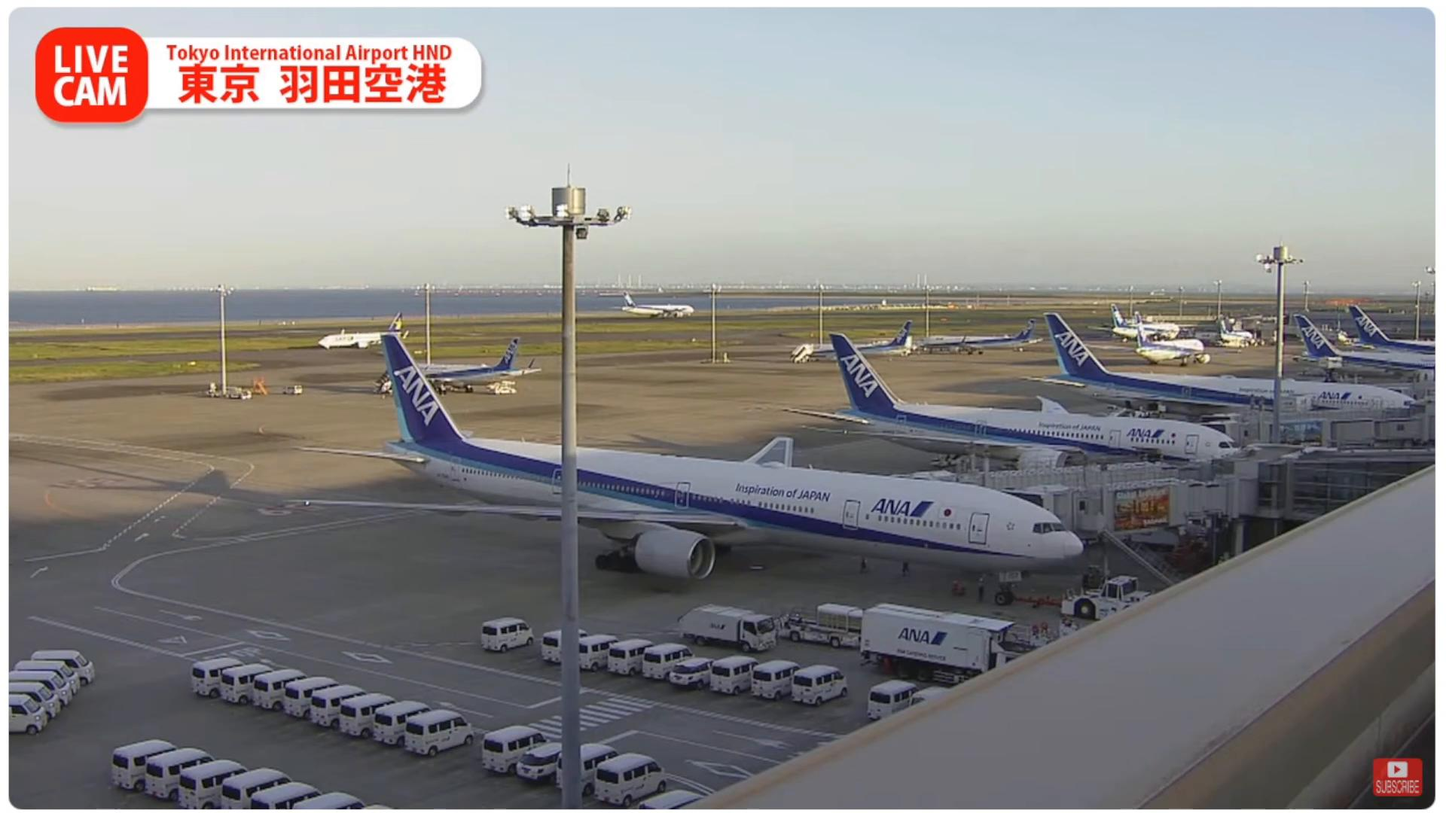APS: (1057, 573, 1156, 617)
Aerobridge: (990, 474, 1217, 523), (903, 458, 1204, 486)
Airplane: (290, 334, 1076, 584)
Baggage truck: (677, 602, 778, 651)
Catering: (864, 601, 1049, 687)
Skyloader: (777, 600, 867, 643)
Window: (1253, 443, 1435, 520)
